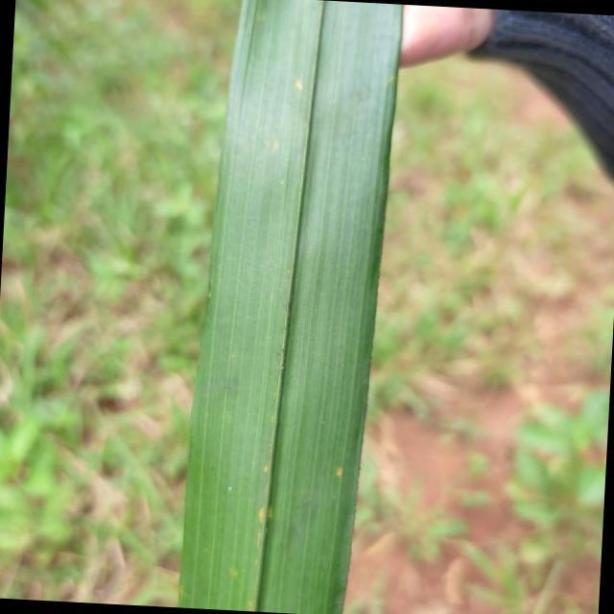Kalium: (176, 0, 401, 614)
